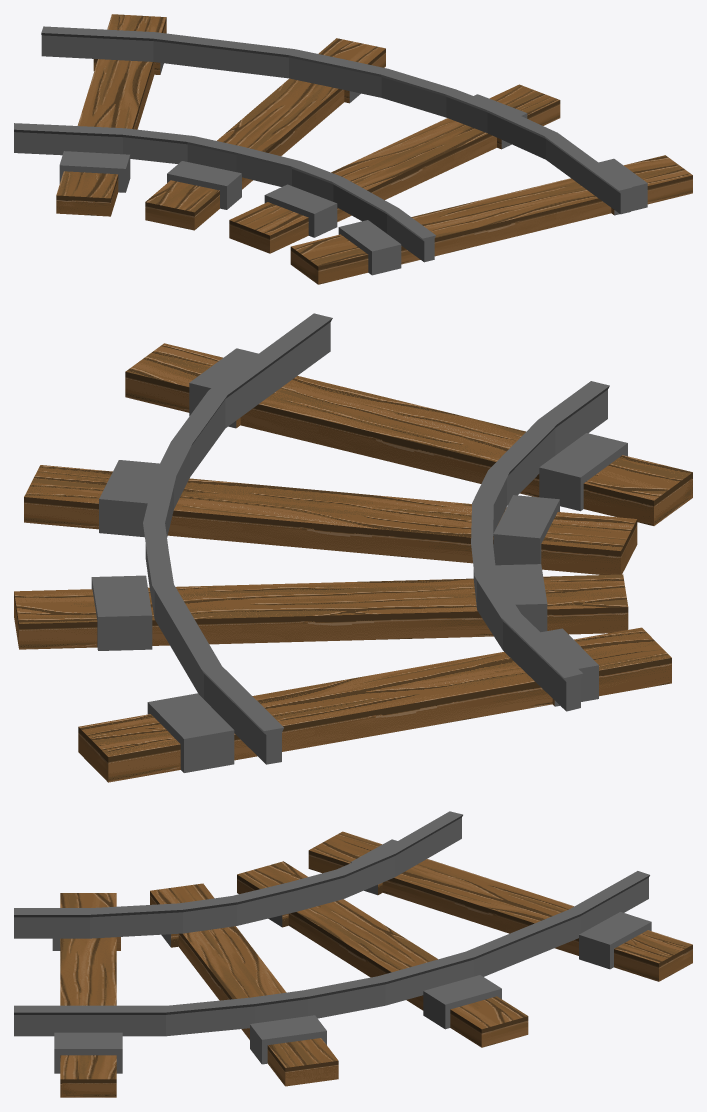
Rendered from railLeft45.fbx.
3 renders of one model, top to bottom at view 1: azimuth 30°, elevation 25°; view 2: azimuth 150°, elevation 25°; view 3: azimuth 270°, elevation 25°, orthographic. The views are drawn at different scales.
Parts seen in each view (by area): view 1: Cube, Cube.001; view 2: Cube, Cube.001; view 3: Cube, Cube.001.
Part boxes in pixels (x1=…): Cube: x1=56, y1=14, x2=692, y2=284; Cube.001: x1=14, y1=26, x2=632, y2=262; Cube: x1=14, y1=343, x2=692, y2=782; Cube.001: x1=143, y1=313, x2=609, y2=764; Cube: x1=52, y1=831, x2=692, y2=1097; Cube.001: x1=14, y1=811, x2=649, y2=1036.
Bounding box in the file's own units: 319 × 26.27 × 369.
